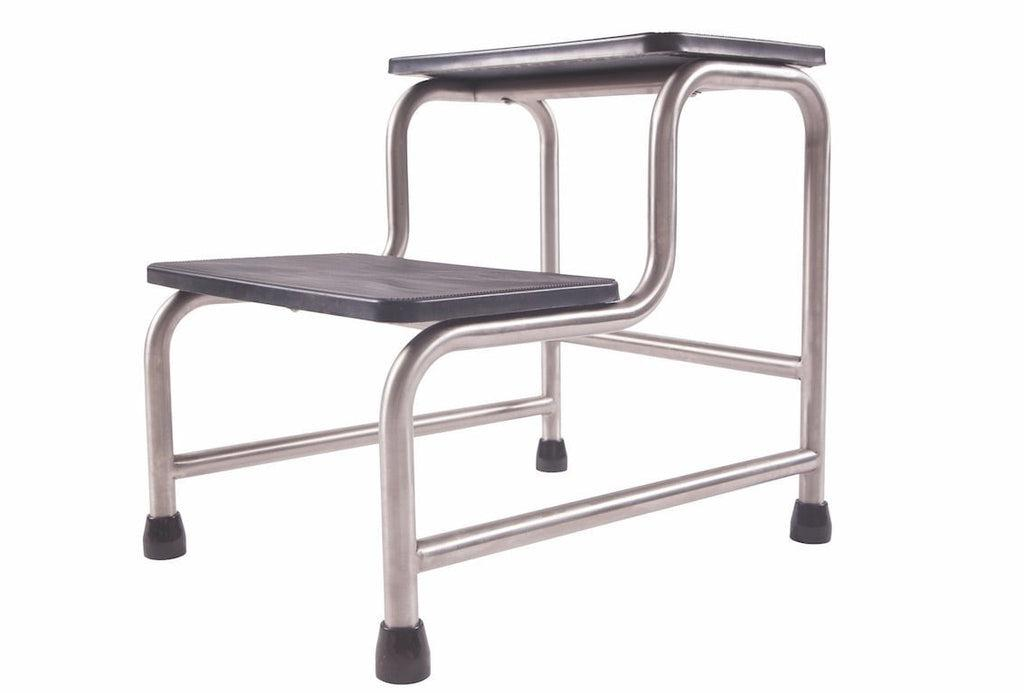stool: (133, 19, 842, 683)
